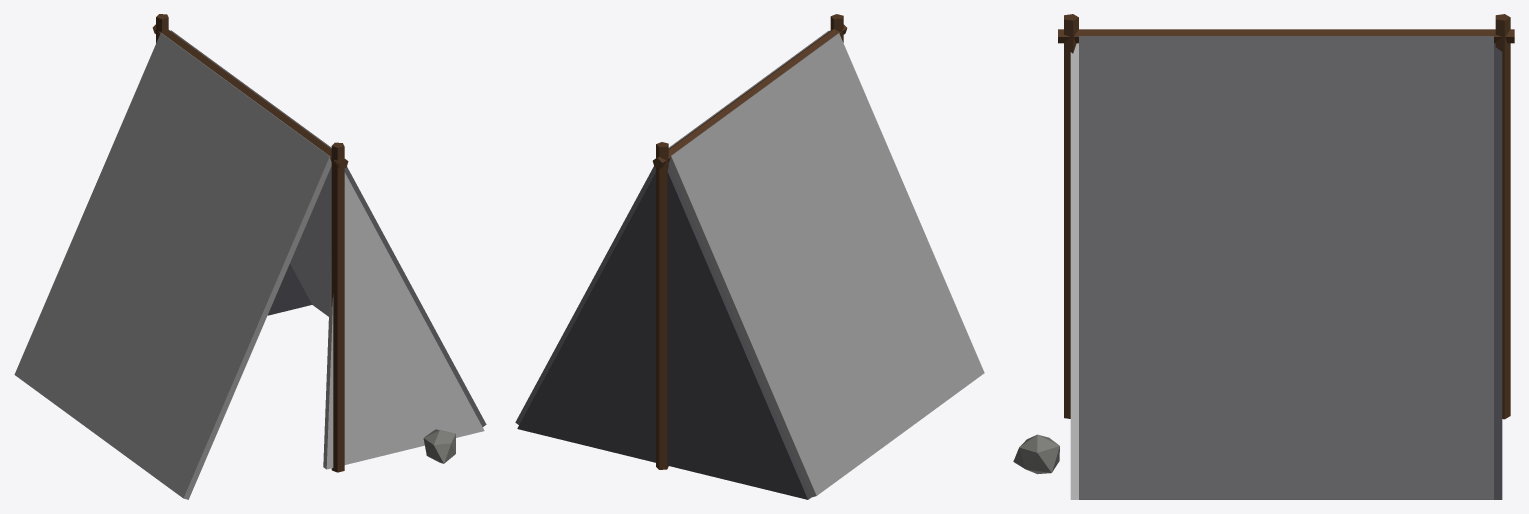
Rendered from tent.fbx.
3 renders of one model, left to right at view 1: azimuth 30°, elevation 25°; view 2: azimuth 150°, elevation 25°; view 3: azimuth 270°, elevation 25°, orthographic. The views are drawn at different scales.
Visible parts, largest first — view 1: Tent; view 2: Tent; view 3: Tent.
Boxes of the visible parts, bbox=[...] form: Tent: bbox=[14, 14, 486, 499]; Tent: bbox=[515, 14, 984, 499]; Tent: bbox=[1013, 14, 1514, 499].
Size of the model in its own units: 1.04 by 1.07 by 1.21.
1 material, 1 textured.
